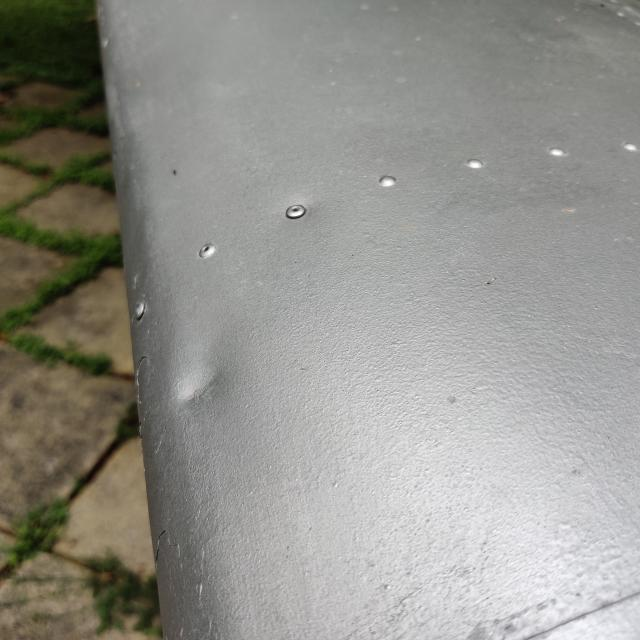dent: (156, 327, 260, 438)
